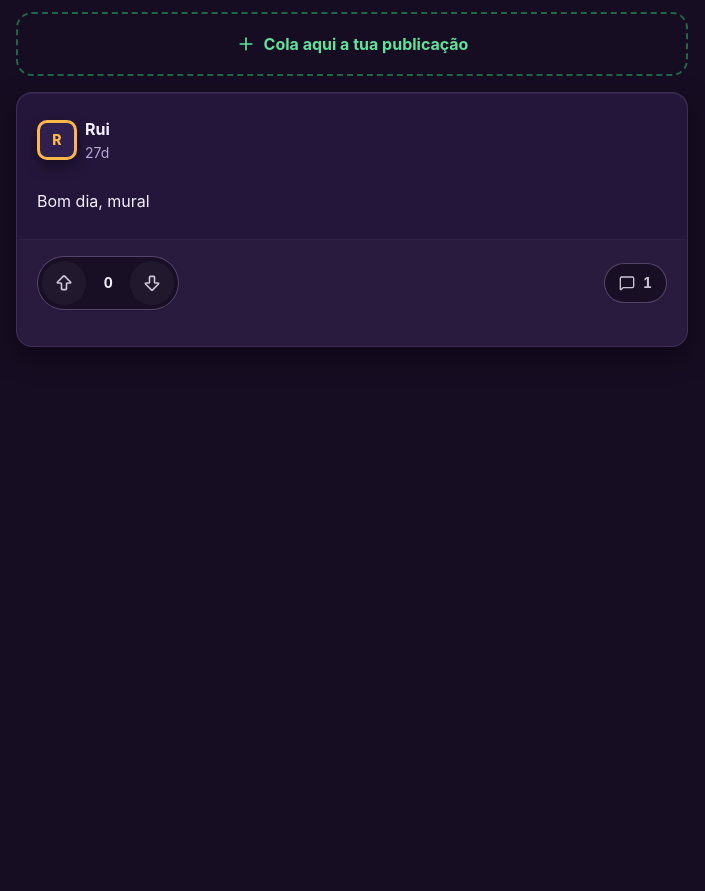
Test case: HubFeedModule › opens the comments, replies and counts the new comment
Click the button named "1 comentários".
click(635, 283)  # box [604, 263, 667, 303]
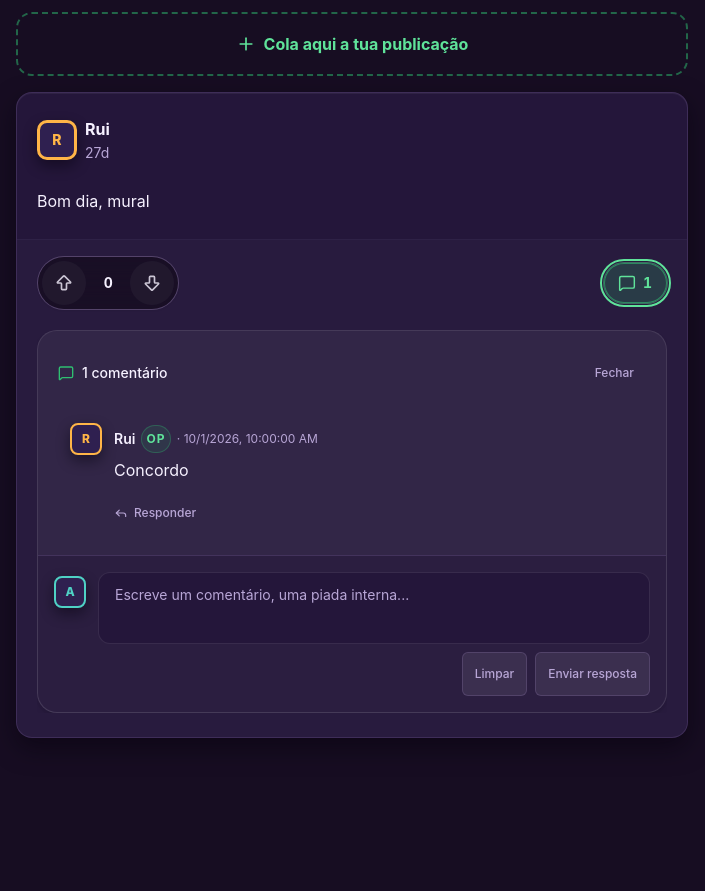
Result: the text "Concordo" is shown at [114, 460, 189, 480]
Type "Também acho" into the text box with placeholder "Escreve um comentário, uma piada interna...".
click(374, 608); type("Também acho")  # box [98, 572, 650, 644]
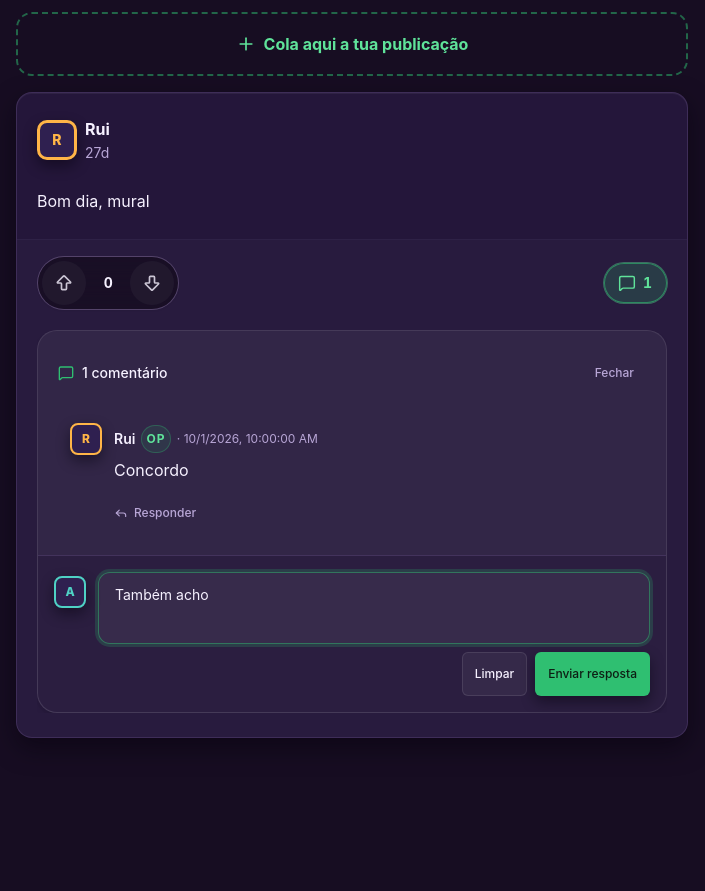
Click the button "Enviar resposta".
click(593, 674)  # box [535, 652, 650, 696]
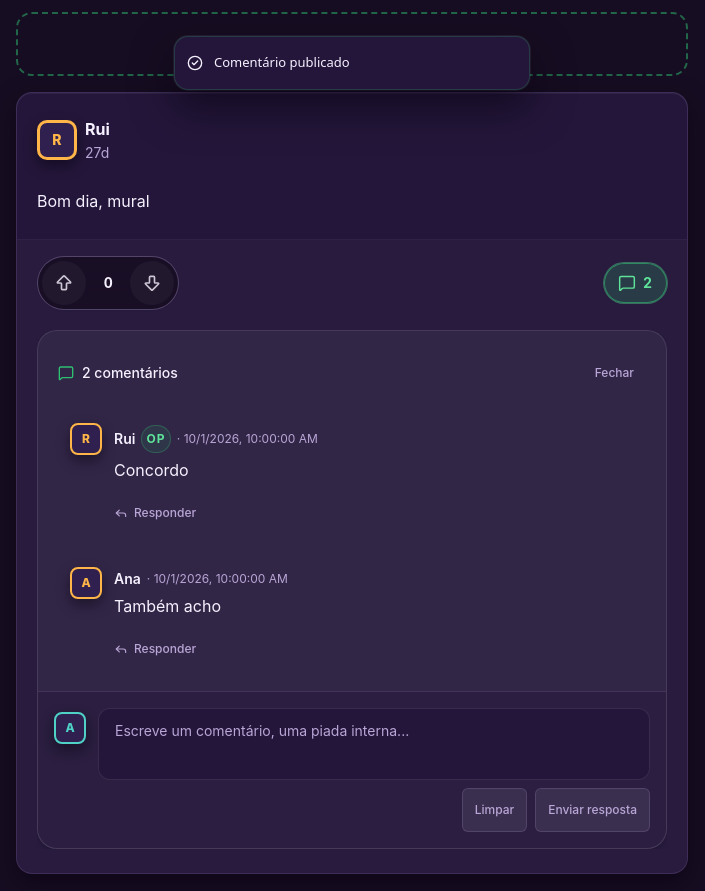
Result: the text "Comentário publicado" is shown at [214, 53, 350, 72]
Result: the text "Também acho" is shown at [114, 596, 221, 616]
Result: the text "2 comentários" is shown at [82, 363, 178, 383]
